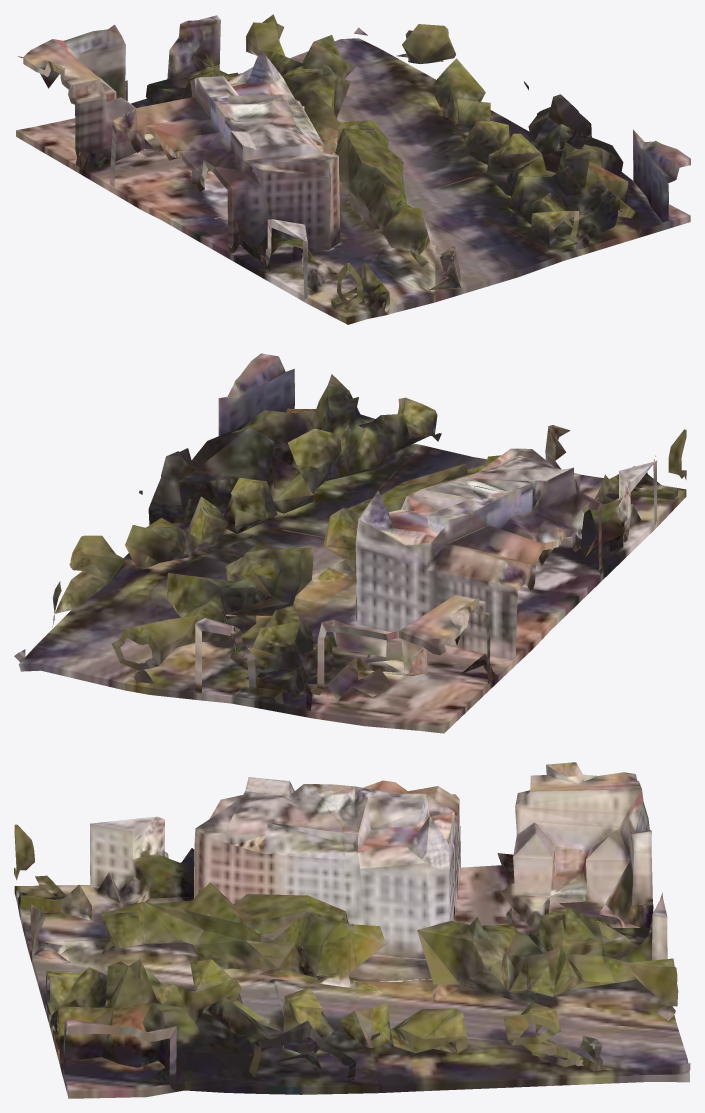
3 views of the same model, one above another, from view 1: azimuth 30°, elevation 25°; view 2: azimuth 150°, elevation 25°; view 3: azimuth 270°, elevation 25° (orthographic). The views are drawn at different scales.
Parts seen in each view (by area): view 1: Mesh_0; view 2: Mesh_0; view 3: Mesh_0.
Boxes of the visible parts, bbox=[...] form: Mesh_0: bbox=[16, 14, 690, 324]; Mesh_0: bbox=[14, 353, 686, 733]; Mesh_0: bbox=[14, 762, 690, 1098].
Size of the model in its own units: 134 by 40.24 by 165.
Materials: 2 (2 with a texture image).
